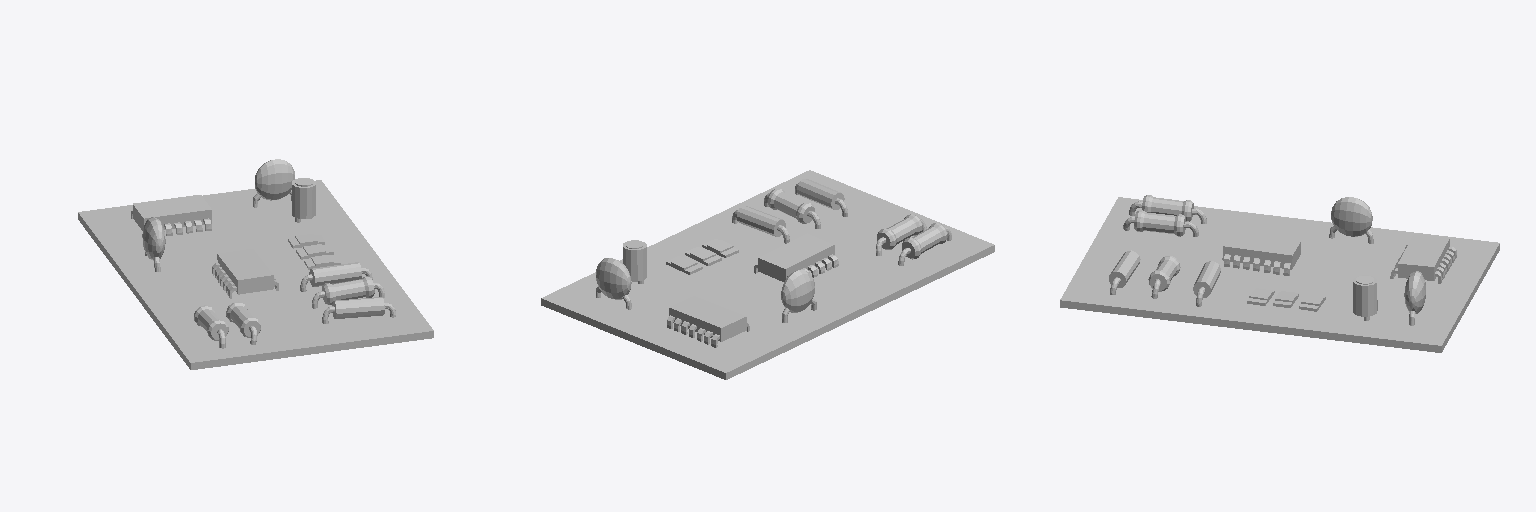
The model's file is robot-3.obj.
The picture shows the model from 3 angles: view 1: azimuth 30°, elevation 25°; view 2: azimuth 150°, elevation 25°; view 3: azimuth 270°, elevation 25°; orthographic projection.
Parts seen in each view (by area): view 1: group[number redacted], group[number redacted], group[number redacted], group[number redacted], group[number redacted], group[number redacted], group[number redacted], group[number redacted], group[number redacted]; view 2: group[number redacted], group[number redacted], group[number redacted], group[number redacted], group[number redacted], group[number redacted], group[number redacted], group[number redacted], group[number redacted]; view 3: group[number redacted], group[number redacted], group[number redacted], group[number redacted], group[number redacted], group[number redacted], group[number redacted], group[number redacted], group[number redacted].
Part boxes in pixels (left/top/right/bottom): group[number redacted]: left=78, top=180, right=433, bottom=369; group[number redacted]: left=133, top=195, right=211, bottom=230; group[number redacted]: left=217, top=249, right=273, bottom=294; group[number redacted]: left=255, top=159, right=294, bottom=200; group[number redacted]: left=322, top=276, right=374, bottom=304; group[number redacted]: left=292, top=178, right=315, bottom=218; group[number redacted]: left=142, top=217, right=165, bottom=260; group[number redacted]: left=226, top=301, right=260, bottom=337; group[number redacted]: left=194, top=305, right=228, bottom=340; group[number redacted]: left=541, top=170, right=994, bottom=379; group[number redacted]: left=758, top=233, right=834, bottom=281; group[number redacted]: left=669, top=296, right=746, bottom=341; group[number redacted]: left=596, top=258, right=631, bottom=299; group[number redacted]: left=781, top=270, right=814, bottom=312; group[number redacted]: left=767, top=188, right=814, bottom=223; group[number redacted]: left=902, top=223, right=947, bottom=259; group[number redacted]: left=877, top=214, right=922, bottom=249; group[number redacted]: left=623, top=240, right=646, bottom=281; group[number redacted]: left=1060, top=197, right=1499, bottom=352; group[number redacted]: left=1222, top=232, right=1300, bottom=269; group[number redacted]: left=1398, top=234, right=1449, bottom=280; group[number redacted]: left=1331, top=197, right=1372, bottom=236; group[number redacted]: left=1134, top=210, right=1185, bottom=236; group[number redacted]: left=1142, top=195, right=1193, bottom=221; group[number redacted]: left=1353, top=275, right=1377, bottom=316; group[number redacted]: left=1404, top=271, right=1425, bottom=313; group[number redacted]: left=1148, top=256, right=1180, bottom=291.
Bounding box in the file's own units: 1.08 × 0.1934 × 1.41.